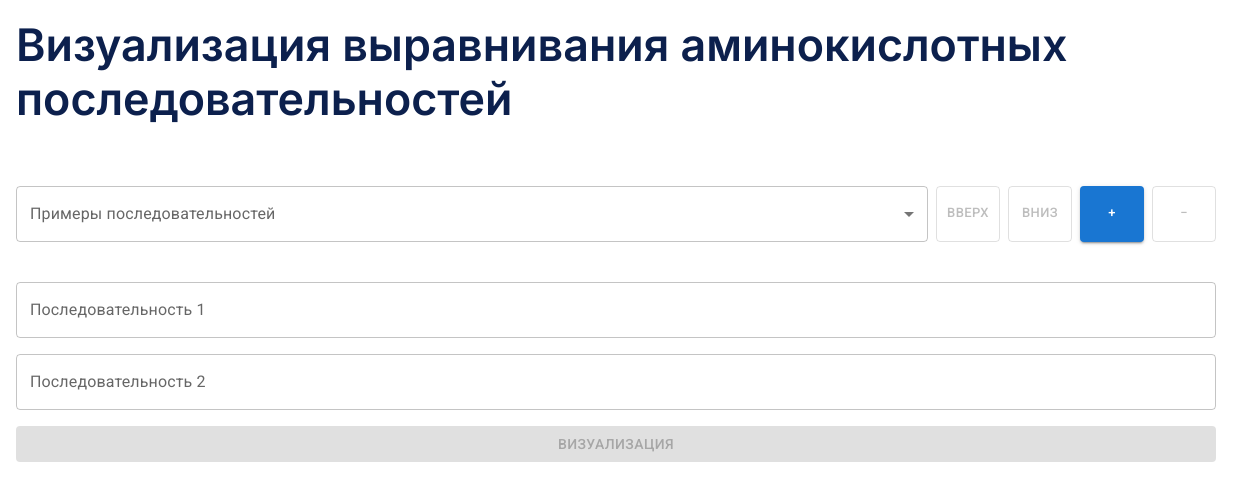
it: AminoInputForm › submit заблокирован при невалидных данных
Expected: the button "Визуализация" is disabled, left=16, top=426, right=1216, bottom=462
Type "ZZ" into the field labelled "Последовательность 1".
click(616, 310); type("ZZ")  # box left=16, top=282, right=1216, bottom=338
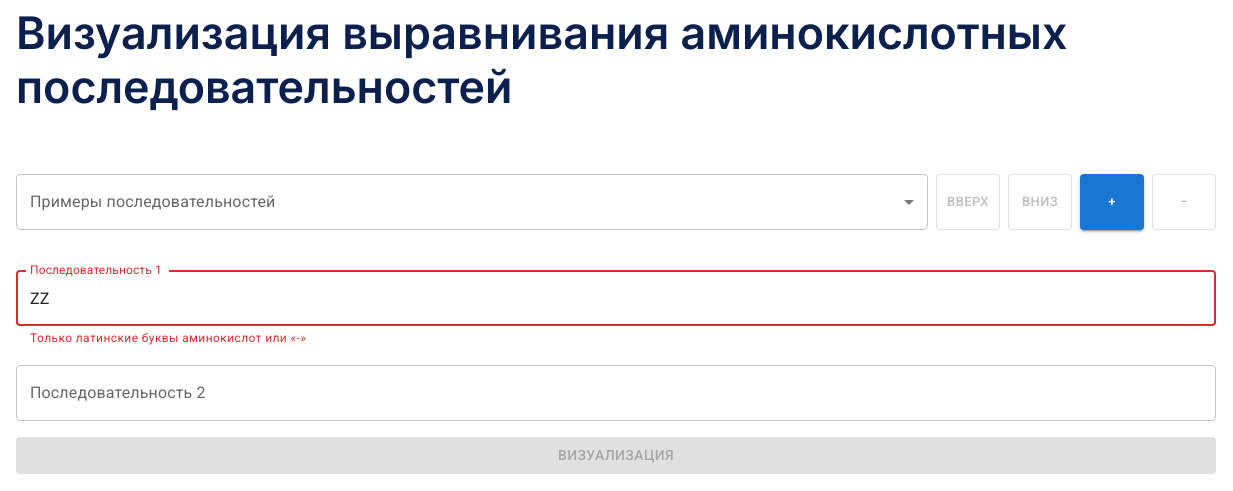
Expected: the button "Визуализация" is disabled, left=16, top=437, right=1216, bottom=474
Result: the text "Только латинские буквы аминокислот или «-»" is shown at left=30, top=331, right=306, bottom=345
